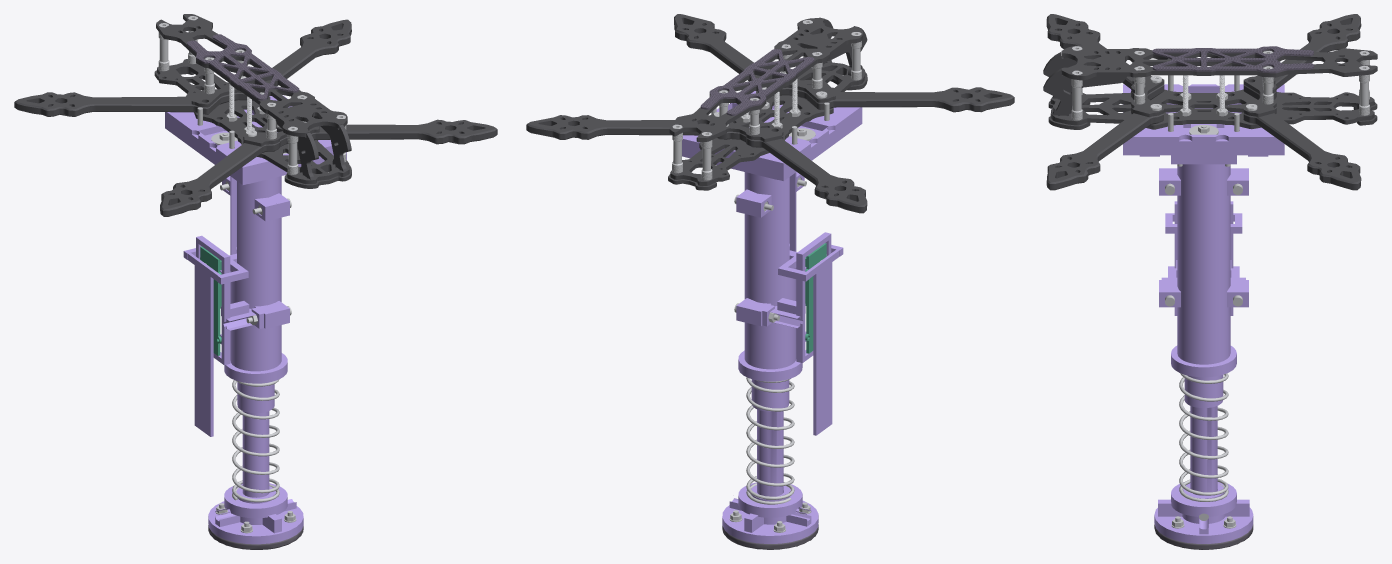
The picture shows the model from 3 angles, left to right: view 1: azimuth 30°, elevation 25°; view 2: azimuth 150°, elevation 25°; view 3: azimuth 270°, elevation 25°; orthographic projection. The views are drawn at different scales.
Visible parts, largest first — view 1: GEPRC Mk4 5in Arms v1.step.STEP_2.STEP, 05_Housing_front_4.step, 06_Slider_key_target_carrier_4.step, Top Plate (1).step.STEP_2.STEP, Bottom Plate.step.STEP_2.STEP, 07_Interchangeable_foot_hub_4.step, 01_Frame_tray_2.step, 04_Housing_rear_4.step, Battery Pad.step.STEP_2.STEP, 10_LDC1612_bracket_4.step, USER_SPRING_axially_scaled_APPROX_3.step, Cam Plates.step.STEP_2.STEP (+4 smaller); view 2: GEPRC Mk4 5in Arms v1.step.STEP_2.STEP, 05_Housing_front_4.step, 06_Slider_key_target_carrier_4.step, Top Plate (1).step.STEP_2.STEP, Bottom Plate.step.STEP_2.STEP, 07_Interchangeable_foot_hub_4.step, 01_Frame_tray_2.step, 04_Housing_rear_4.step, Battery Pad.step.STEP_2.STEP, USER_SPRING_axially_scaled_APPROX_3.step, 10_LDC1612_bracket_4.step, Standoff M3x25.step.STEP_2.STEP (+3 smaller); view 3: 04_Housing_rear_4.step, GEPRC Mk4 5in Arms v1.step.STEP_2.STEP, Bottom Plate.step.STEP_2.STEP, Top Plate (1).step.STEP_2.STEP, 01_Frame_tray_2.step, 07_Interchangeable_foot_hub_4.step, Battery Pad.step.STEP_2.STEP, 06_Slider_key_target_carrier_4.step, USER_SPRING_axially_scaled_APPROX_3.step, Cam Plates.step.STEP_2.STEP, Standoff M3x25.step.STEP_2.STEP, Arm Plate.step.STEP_2.STEP (+3 smaller).
Boxes of the visible parts, box(x1,y1,x2,y2) form: GEPRC Mk4 5in Arms v1.step.STEP_2.STEP: box(14, 19, 497, 216); 05_Housing_front_4.step: box(222, 176, 277, 413); 06_Slider_key_target_carrier_4.step: box(183, 247, 269, 497); Top Plate (1).step.STEP_2.STEP: box(156, 14, 347, 136); Bottom Plate.step.STEP_2.STEP: box(157, 59, 349, 183); 07_Interchangeable_foot_hub_4.step: box(208, 483, 303, 544); 01_Frame_tray_2.step: box(165, 95, 346, 184); 04_Housing_rear_4.step: box(265, 176, 289, 411); Battery Pad.step.STEP_2.STEP: box(187, 34, 299, 100); 10_LDC1612_bracket_4.step: box(196, 235, 263, 365); USER_SPRING_axially_scaled_APPROX_3.step: box(232, 379, 279, 502); Cam Plates.step.STEP_2.STEP: box(275, 116, 351, 179); GEPRC Mk4 5in Arms v1.step.STEP_2.STEP: box(526, 14, 1014, 213); 05_Housing_front_4.step: box(748, 172, 804, 411); 06_Slider_key_target_carrier_4.step: box(757, 244, 843, 496); Top Plate (1).step.STEP_2.STEP: box(669, 17, 862, 142); Bottom Plate.step.STEP_2.STEP: box(670, 60, 865, 185); 07_Interchangeable_foot_hub_4.step: box(722, 482, 818, 543); 01_Frame_tray_2.step: box(682, 91, 862, 181); 04_Housing_rear_4.step: box(736, 172, 760, 410); Battery Pad.step.STEP_2.STEP: box(700, 49, 814, 115); USER_SPRING_axially_scaled_APPROX_3.step: box(746, 377, 794, 504); 10_LDC1612_bracket_4.step: box(762, 232, 831, 362); Standoff M3x25.step.STEP_2.STEP: box(672, 41, 861, 180); 04_Housing_rear_4.step: box(1159, 155, 1248, 407); GEPRC Mk4 5in Arms v1.step.STEP_2.STEP: box(1046, 14, 1361, 190); Bottom Plate.step.STEP_2.STEP: box(1050, 89, 1374, 129); Top Plate (1).step.STEP_2.STEP: box(1061, 45, 1377, 80); 01_Frame_tray_2.step: box(1123, 84, 1284, 155); 07_Interchangeable_foot_hub_4.step: box(1154, 482, 1253, 543); Battery Pad.step.STEP_2.STEP: box(1152, 46, 1313, 73); 06_Slider_key_target_carrier_4.step: box(1165, 213, 1242, 495); USER_SPRING_axially_scaled_APPROX_3.step: box(1179, 373, 1228, 501); Cam Plates.step.STEP_2.STEP: box(1043, 52, 1126, 115); Standoff M3x25.step.STEP_2.STEP: box(1071, 60, 1369, 120); Arm Plate.step.STEP_2.STEP: box(1131, 75, 1276, 117).
Bounding box in the file's own units: 0.2182 × 0.283 × 0.1822.
